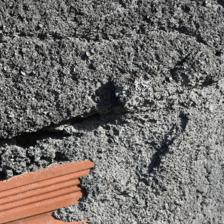Crack: (6, 75, 138, 153)
